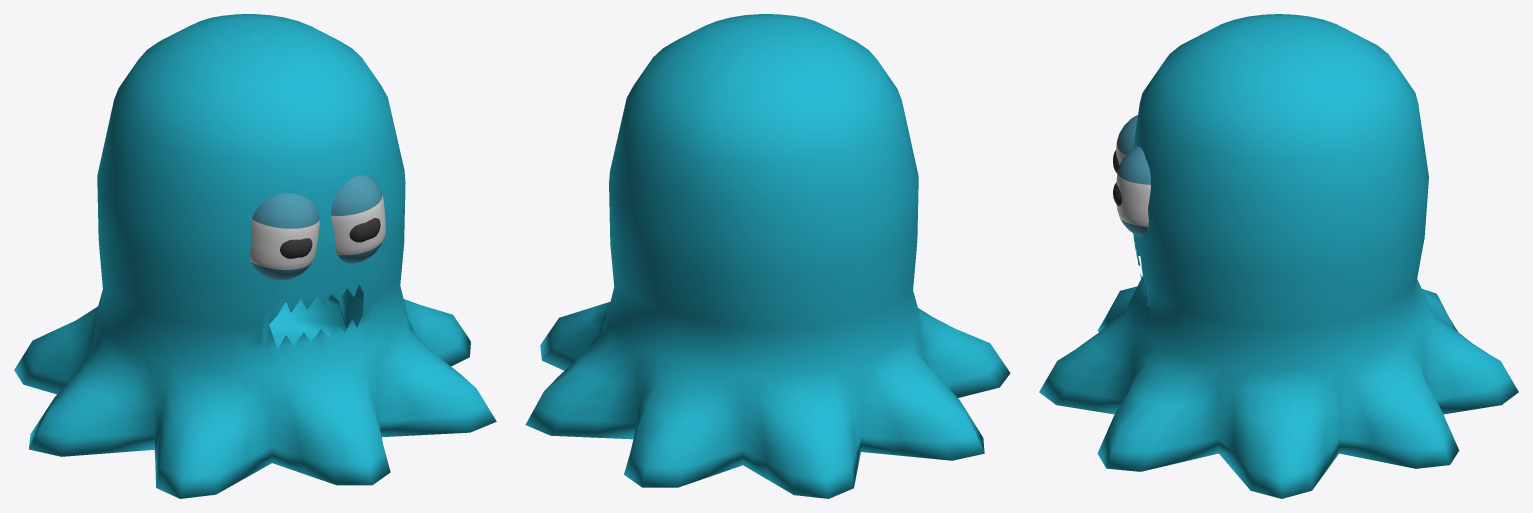
The model's file is MonstroDeAguaFinal.fbx.
3 renders of one model, left to right at view 1: azimuth 30°, elevation 25°; view 2: azimuth 150°, elevation 25°; view 3: azimuth 270°, elevation 25°, orthographic.
Parts seen in each view (by area): view 1: Circle, Sphere, Sphere.003, Sphere.006, Sphere.001; view 2: Circle; view 3: Circle, Sphere.003, Sphere.
Boxes of the visible parts, bbox=[...] form: Circle: bbox=[14, 14, 496, 498]; Sphere: bbox=[249, 193, 319, 280]; Sphere.003: bbox=[331, 174, 385, 263]; Sphere.006: bbox=[280, 238, 312, 258]; Sphere.001: bbox=[349, 218, 380, 242]; Circle: bbox=[525, 14, 1010, 498]; Circle: bbox=[1039, 14, 1518, 498]; Sphere.003: bbox=[1116, 146, 1151, 237]; Sphere: bbox=[1116, 115, 1137, 164].
Bounding box in the file's own units: 322 × 253 × 305.
